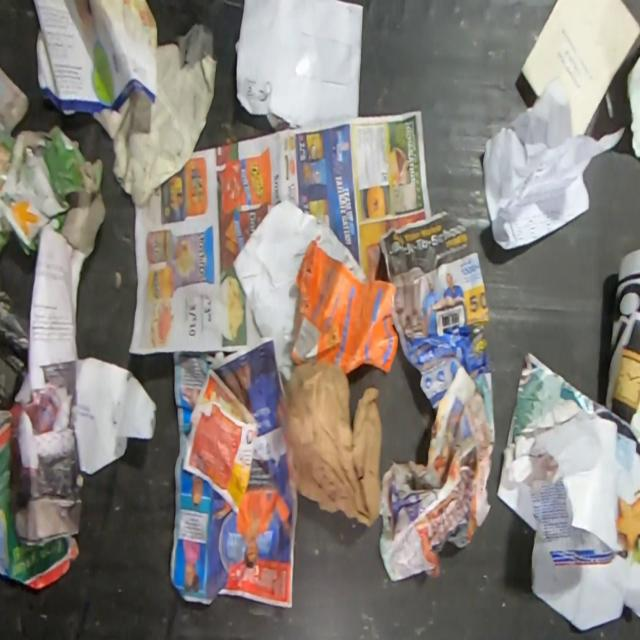metal: (22, 134, 50, 163)
